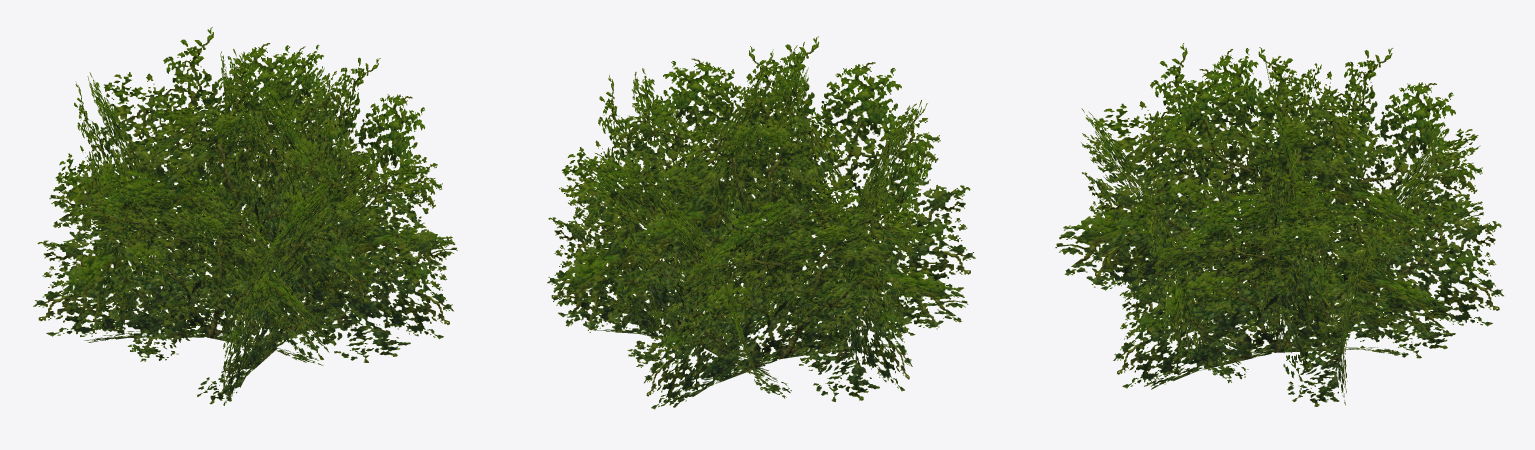
File: tre_dry02.glb
3 renders of one model, left to right at view 1: azimuth 30°, elevation 25°; view 2: azimuth 150°, elevation 25°; view 3: azimuth 270°, elevation 25°, orthographic. The views are drawn at different scales.
Visible parts, largest first — view 1: tre_dry02; view 2: tre_dry02; view 3: tre_dry02.
Part boxes in pixels (x1,y1,x2,y2): tre_dry02: (33,27,457,405); tre_dry02: (547,36,975,409); tre_dry02: (1055,43,1503,406).
Bounding box in the file's own units: 12.08 × 8.54 × 12.54.
1 material, 1 textured.
